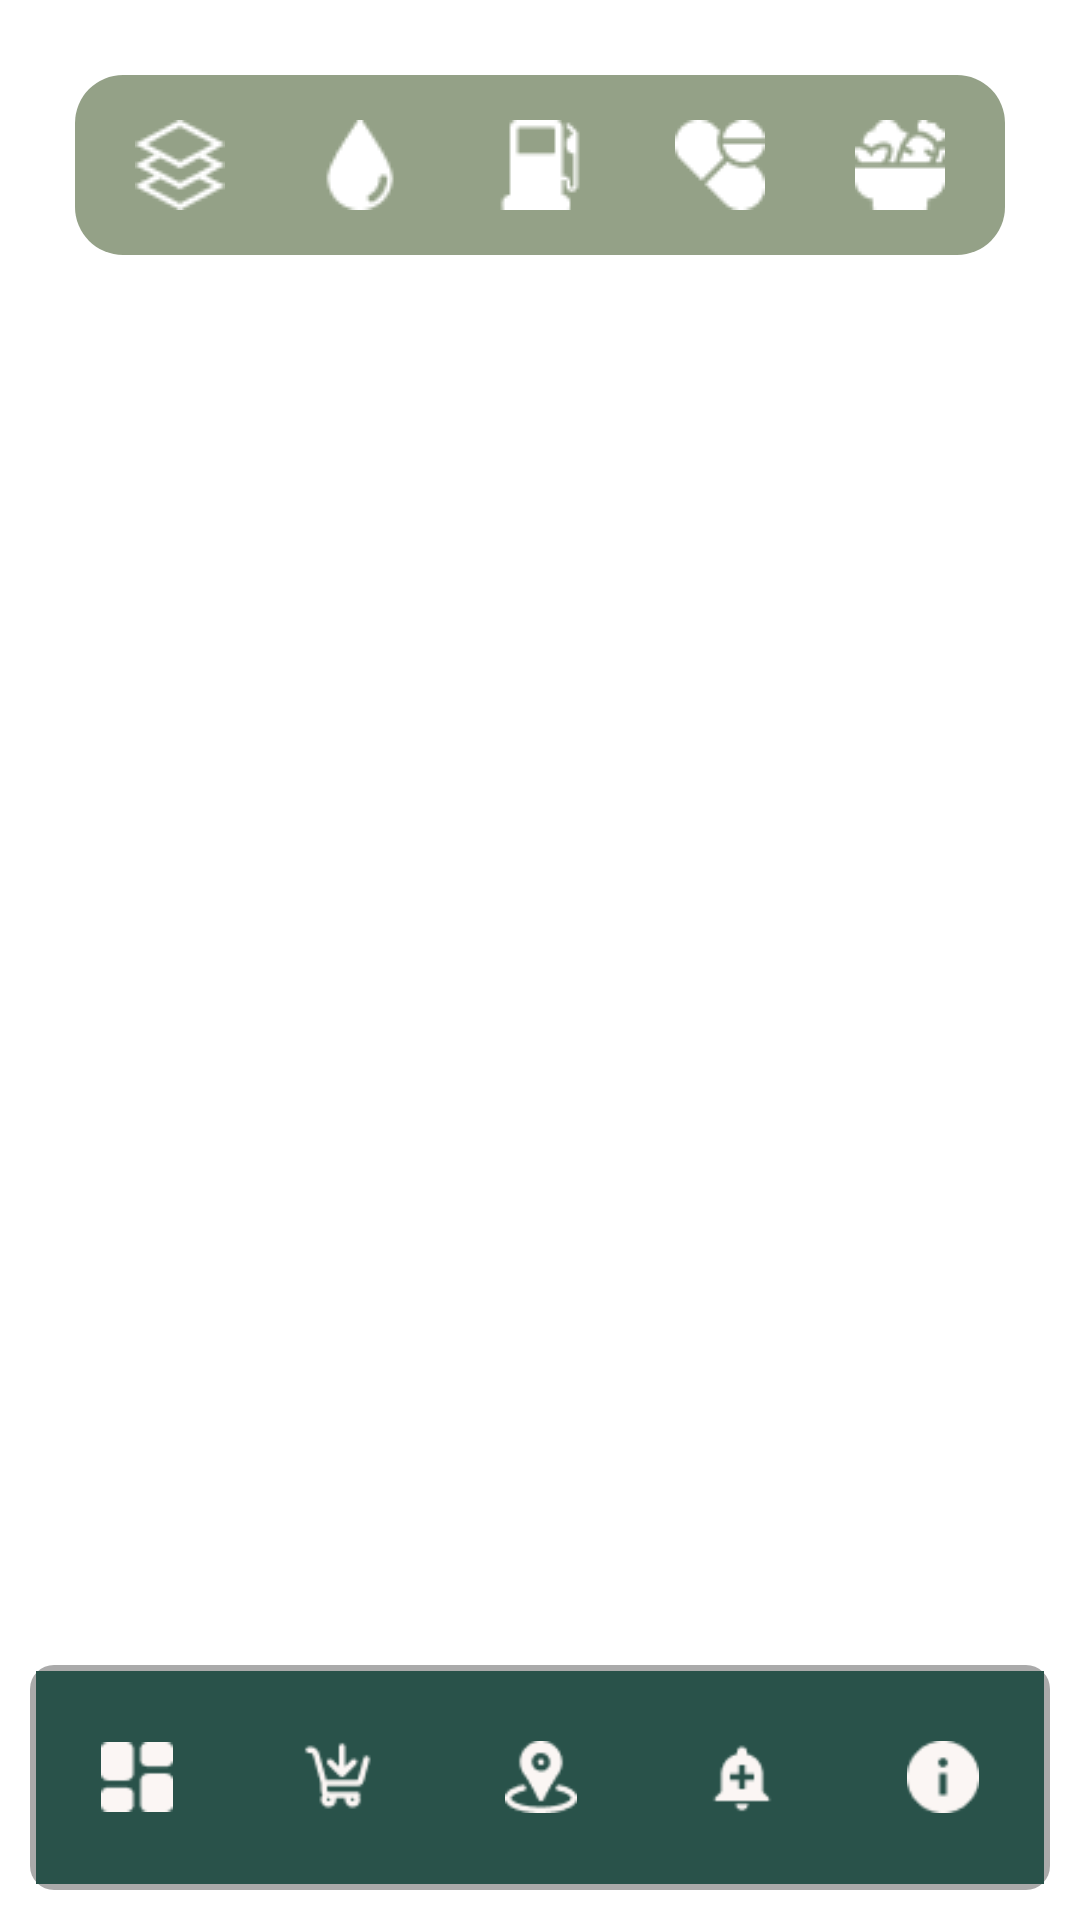

Icons on this 1080w x 1920h Android screen, each with its box as (x1, y1, x2, y2):
All Supplies: (135, 120, 225, 210)
Food Supplies: (855, 120, 945, 210)
Gas Supplies: (501, 120, 579, 210)
Medical Supplies: (675, 120, 765, 210)
Water Supplies: (326, 120, 394, 210)
